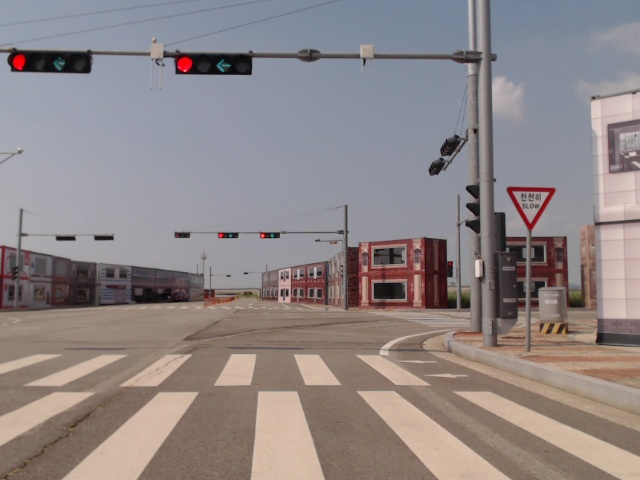left_green_4: (10, 50, 90, 75), (175, 56, 252, 77), (218, 233, 238, 238), (260, 233, 279, 238)
